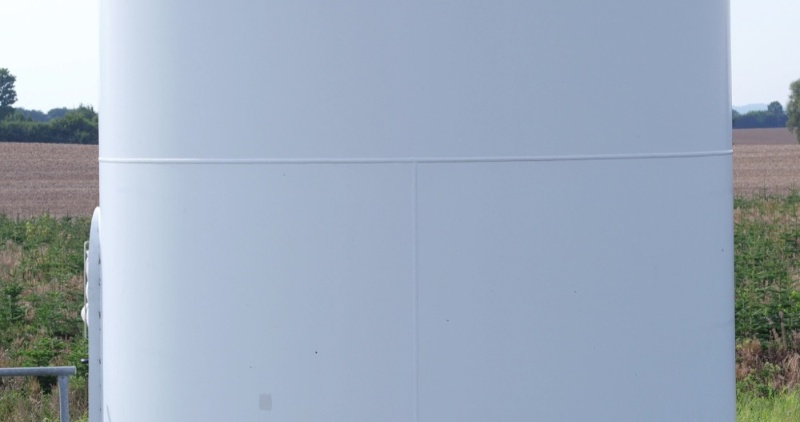weldseam: (90, 143, 736, 168), (405, 153, 430, 422)
